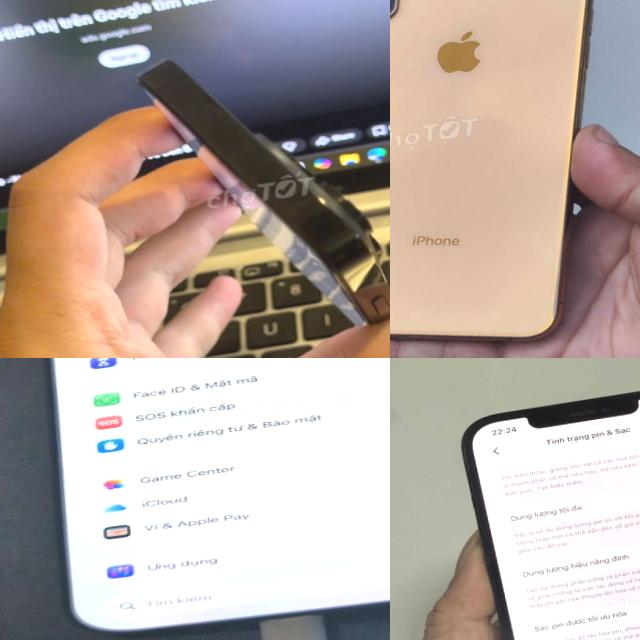gen_12_13: (453, 369, 640, 640)
gen_14: (141, 17, 390, 358)
gen_16: (48, 358, 390, 633)
gen_x_xs: (390, 0, 592, 340)
